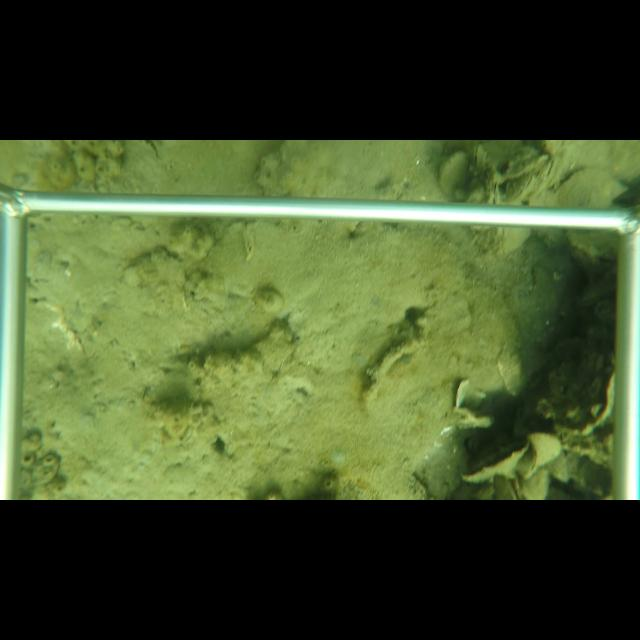Oyster-Closed: (552, 164, 631, 206), (458, 437, 533, 481), (436, 151, 470, 202), (529, 432, 563, 468), (503, 175, 537, 205), (518, 450, 539, 481), (471, 143, 486, 169)
